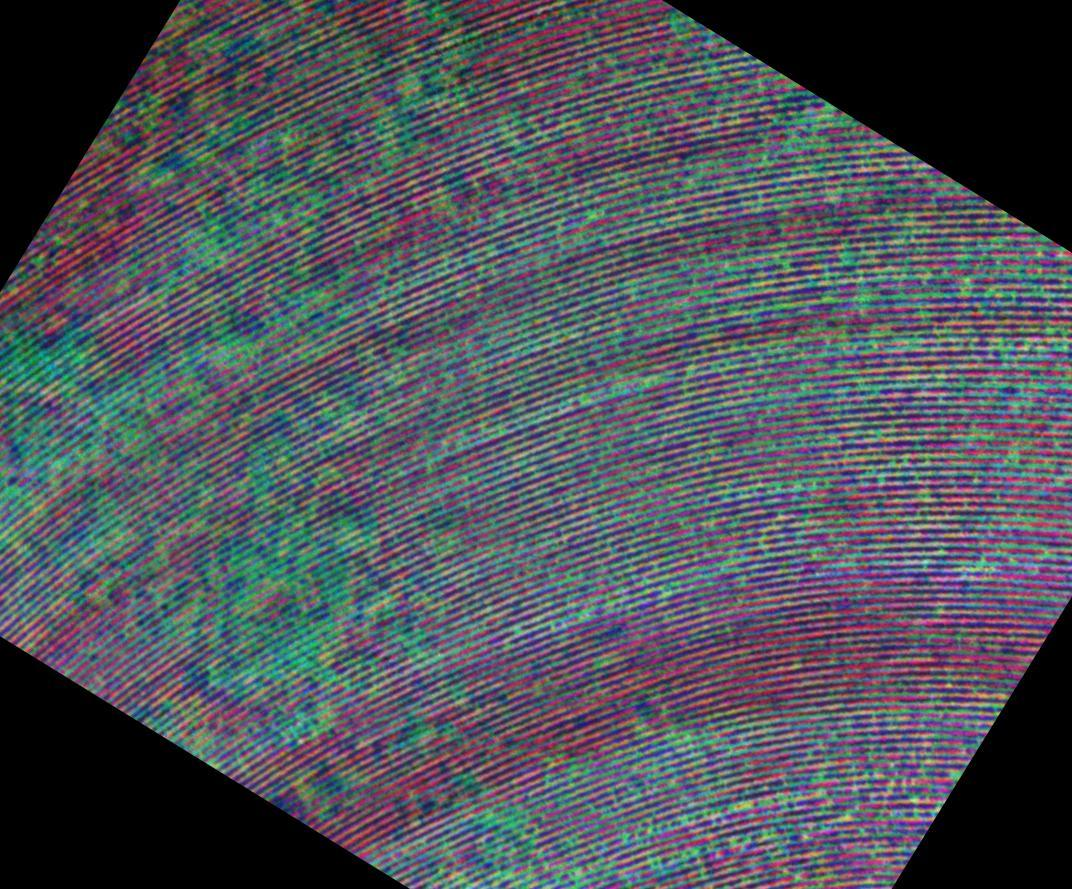dc: (366, 45, 429, 149), (0, 338, 60, 447), (173, 208, 245, 295), (463, 805, 537, 889), (233, 553, 298, 629)
